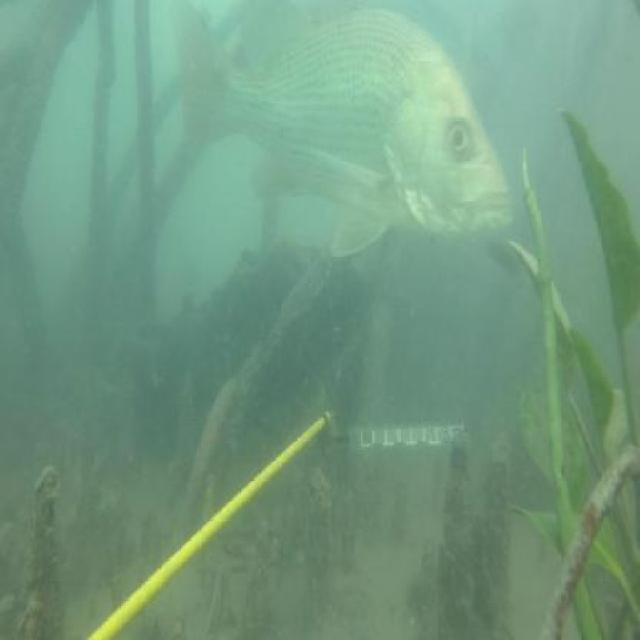lutjanus_johnii: (172, 4, 514, 259)
